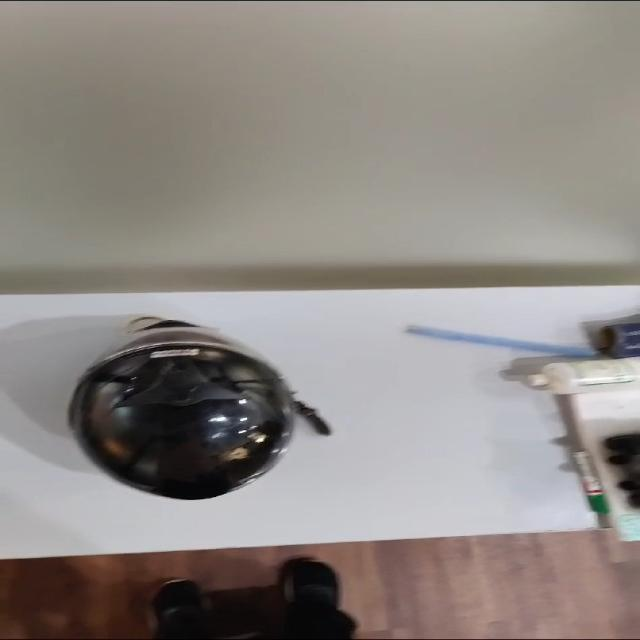helmet: (69, 317, 329, 499)
